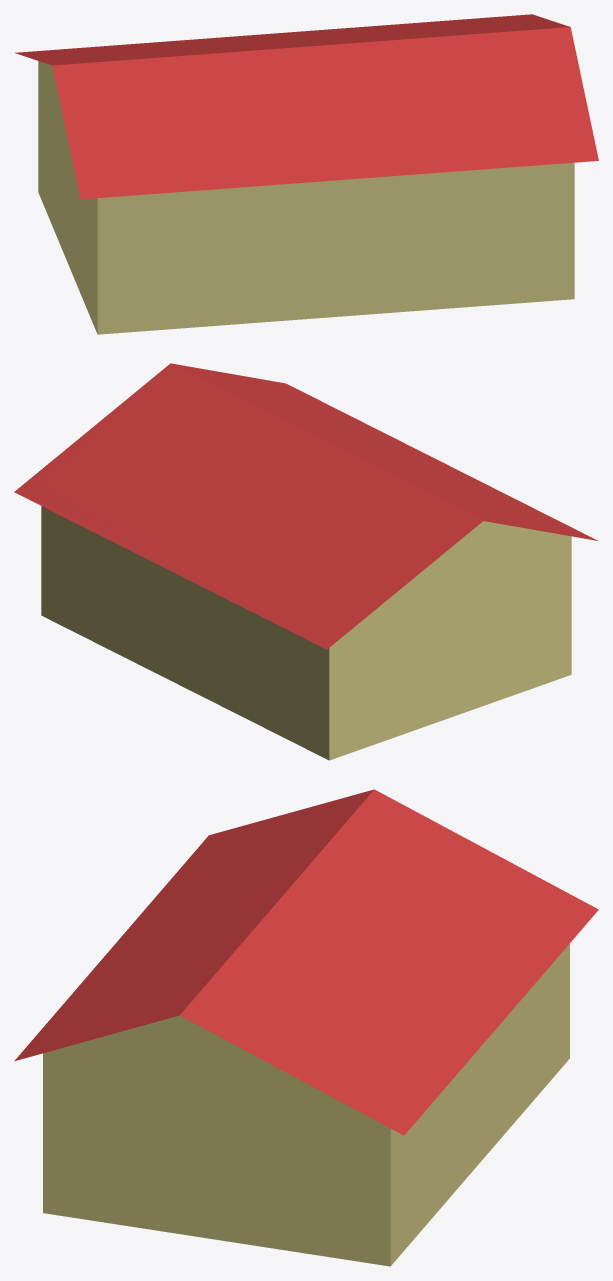
The picture shows the model from 3 angles, top to bottom: view 1: azimuth 30°, elevation 25°; view 2: azimuth 150°, elevation 25°; view 3: azimuth 270°, elevation 25°; orthographic projection. The views are drawn at different scales.
Bounding box in the file's own units: 29.78 × 25.73 × 11.1.
